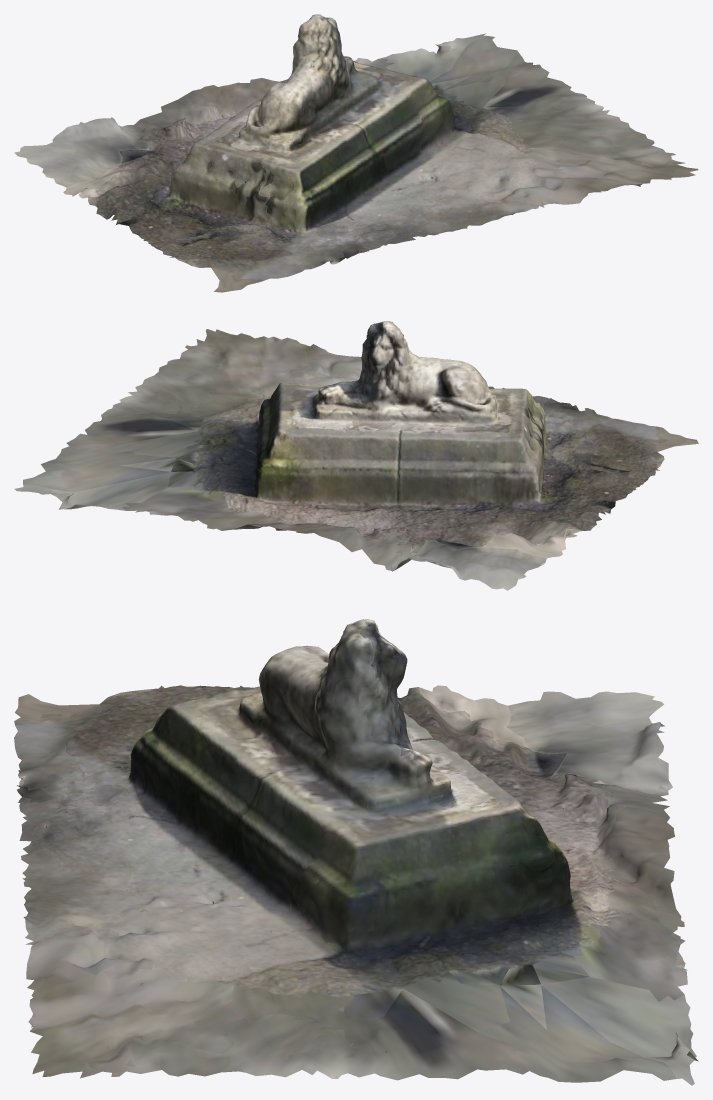
Rendered from lion_c37d22ac.glb.
3 views of the same model, one above another, from view 1: azimuth 30°, elevation 25°; view 2: azimuth 150°, elevation 25°; view 3: azimuth 270°, elevation 25° (orthographic). The views are drawn at different scales.
Parts seen in each view (by area): view 1: lion.obj_material_0_0; view 2: lion.obj_material_0_0; view 3: lion.obj_material_0_0.
Part boxes in pixels (bbox=[...]): lion.obj_material_0_0: bbox=[14, 14, 698, 292]; lion.obj_material_0_0: bbox=[14, 321, 698, 590]; lion.obj_material_0_0: bbox=[14, 619, 698, 1085].
Size of the model in its own units: 3.65 by 1.19 by 2.73.
1 material, 1 textured.
